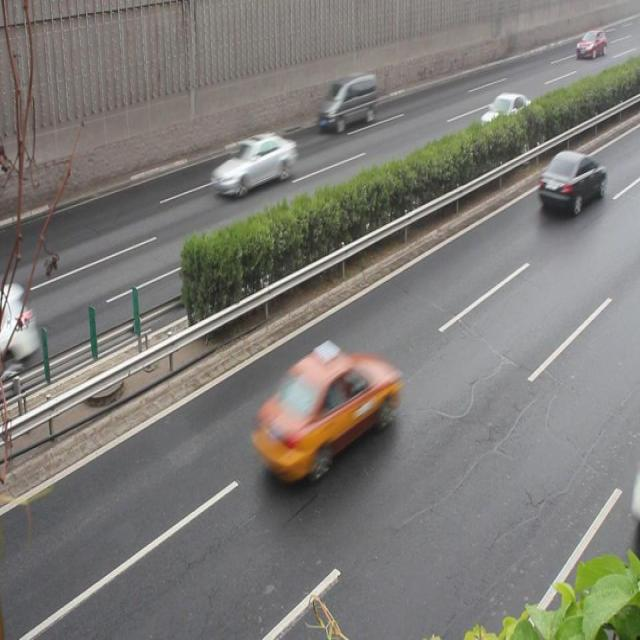car: (250, 352, 396, 482), (210, 132, 294, 197), (537, 147, 605, 214), (480, 93, 532, 140)
truck: (314, 72, 379, 132)
